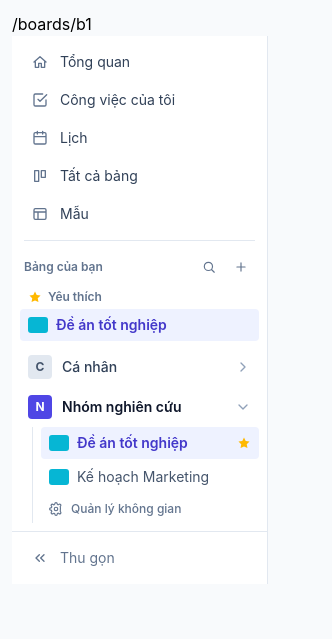
Scenario: BoardSidebar › closes the search box on Escape and shows the whole list again
Step 1. Click the button named "Tìm bảng" → (209, 267), box [195,253,223,281]
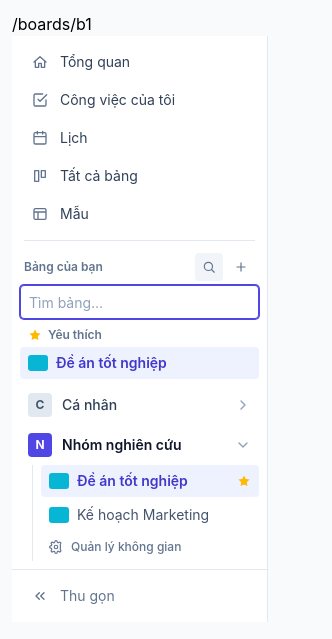
Step 2. Type "Marketing" into the field labelled "Tìm bảng" → (140, 302), box [29,286,250,318]
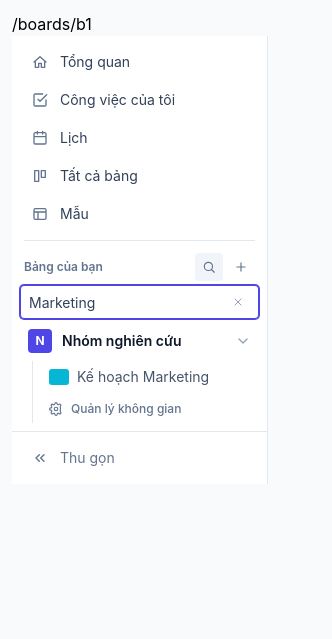
Expected: the link "Việc nhà" is gone
Step 3. Press Escape
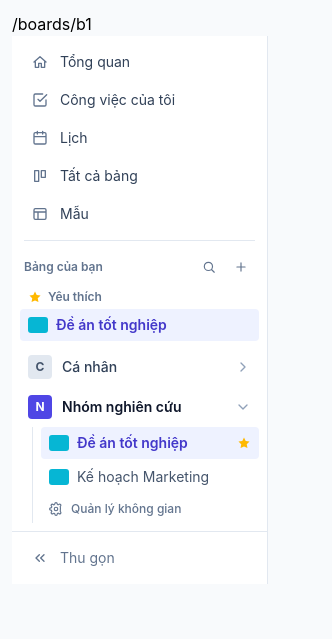
Expected: the field labelled "Tìm bảng" is not shown
Expected: the button "C Cá nhân" is shown, [20,349,259,385]
